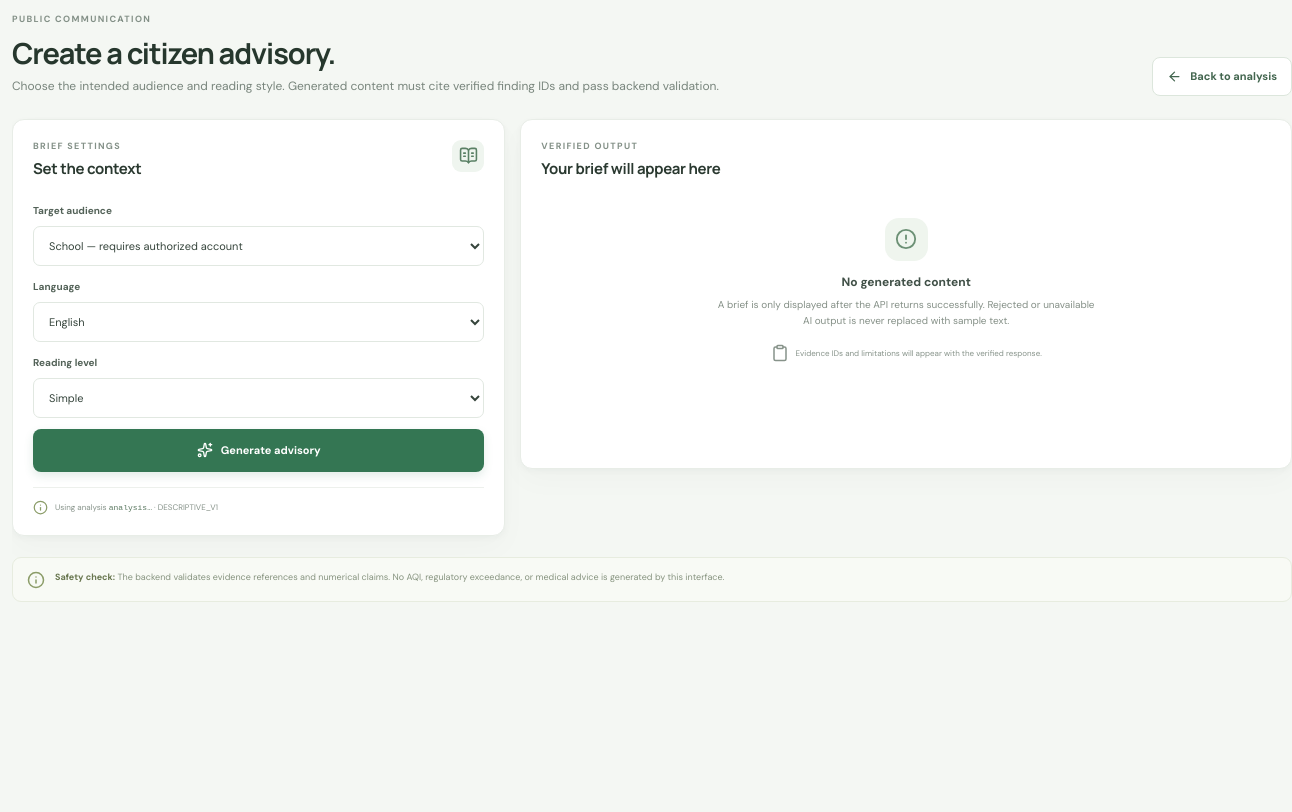
Scenario: brief generation › renders only the API-returned brief and its evidence IDs
Click the button "Generate advisory" at point(259, 450), box [33, 429, 484, 472]
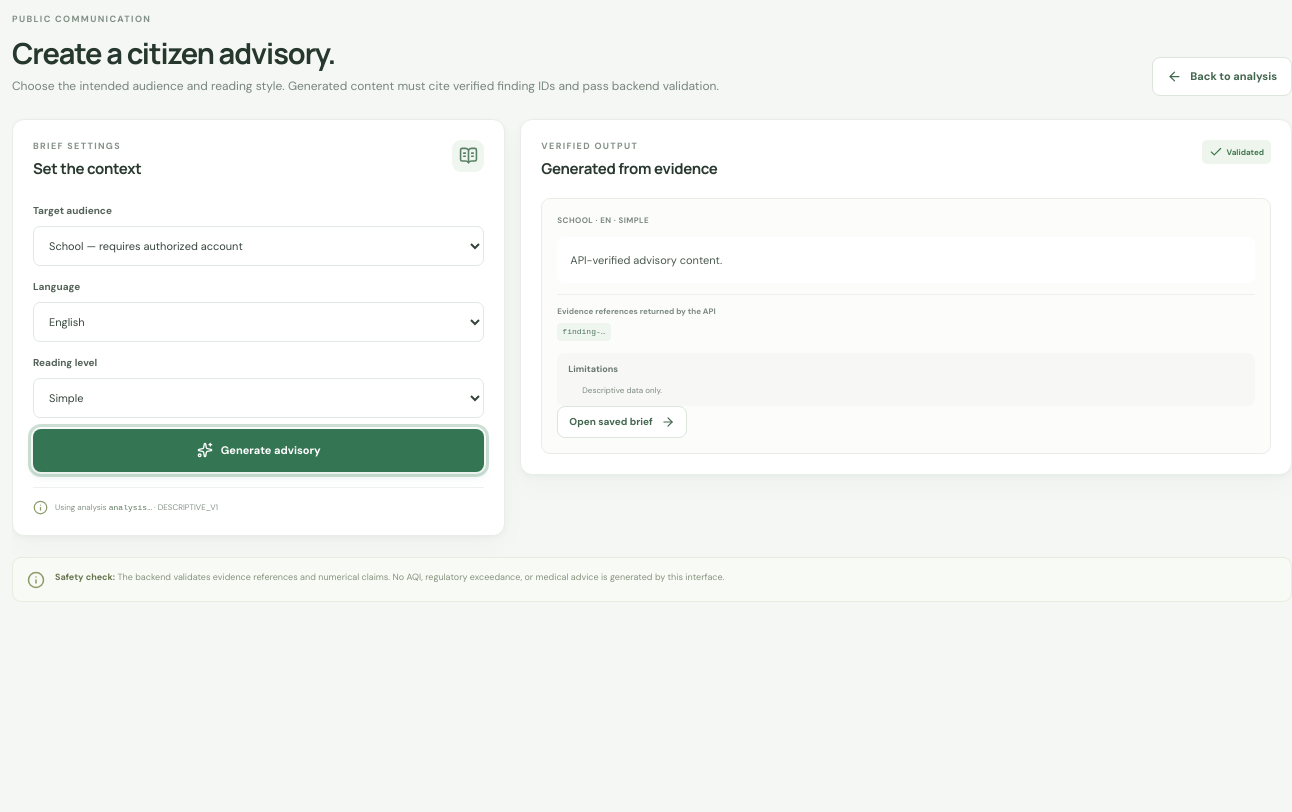
Check: the text "API-verified advisory content." is shown, box [557, 237, 1255, 283]
Check: the text "finding-…" is shown, box [557, 323, 610, 341]
